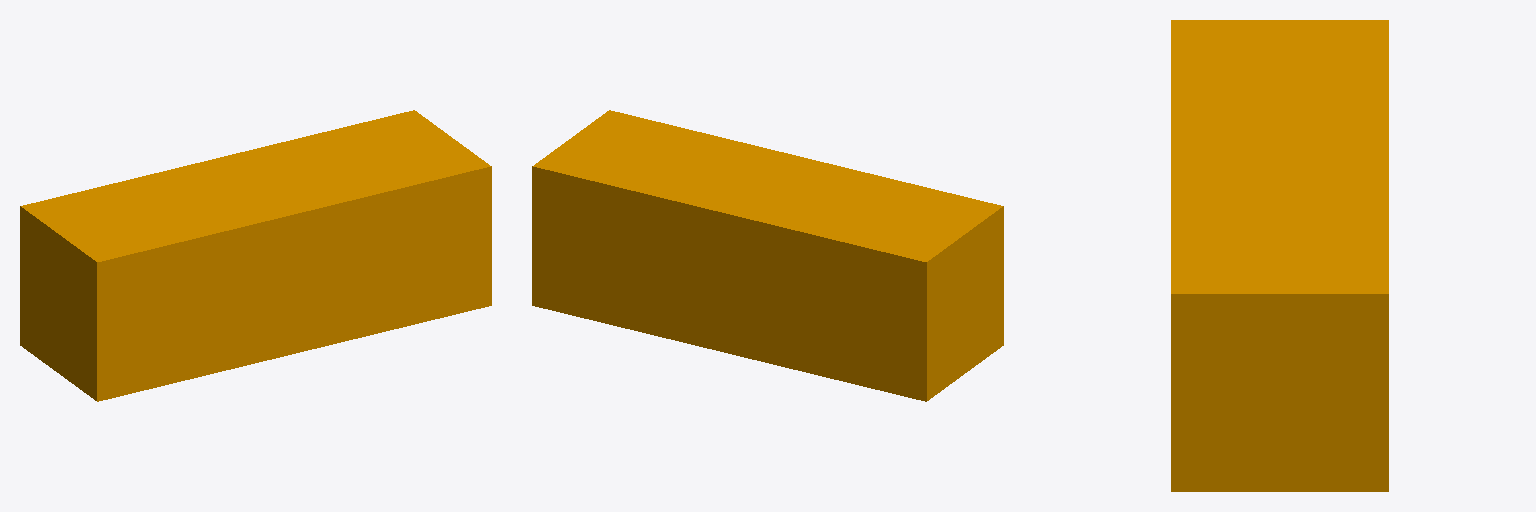
robot.urdf — 1_3I_0:
<robot name="1_3I_0">
  <link name="link">
    <visual>
      <geometry>
        <mesh filename="1_3I_0.obj" scale="1 1 1"/>
      </geometry>
    </visual>
    <collision>
      <geometry>
        <mesh filename="1_3I_0.obj" scale="1 1 1"/>
      </geometry>
    </collision>
    <inertial>
      <mass value="1"/>
      <inertia ixx="1" iyy="1" izz="1" ixy="0" ixz="0" iyz="0"/>
      <origin xyz="0 0 0" rpy="0 0 0"/>
    </inertial>
  </link>
</robot>

--- Facts derived from the render (not from the file) ---
3 views of the same robot in one strip: view 1: azimuth 30°, elevation 25°; view 2: azimuth 150°, elevation 25°; view 3: azimuth 270°, elevation 25° (orthographic).
Robot: 1_3I_0 — 1 links, 0 joints (none); root link link; default pose: all joints at 0.
Links seen in each view (by area): view 1: link; view 2: link; view 3: link.
Link boxes in pixels (x1=…): link: x1=20, y1=110, x2=491, y2=401; link: x1=532, y1=110, x2=1003, y2=401; link: x1=1171, y1=20, x2=1388, y2=491.
Bounding box of the posed robot: 0.1765 × 0.0597 × 0.0597 m (x, y, z).
Meshes: 1 distinct files referenced, 1 mesh visuals loaded (1 OBJ).